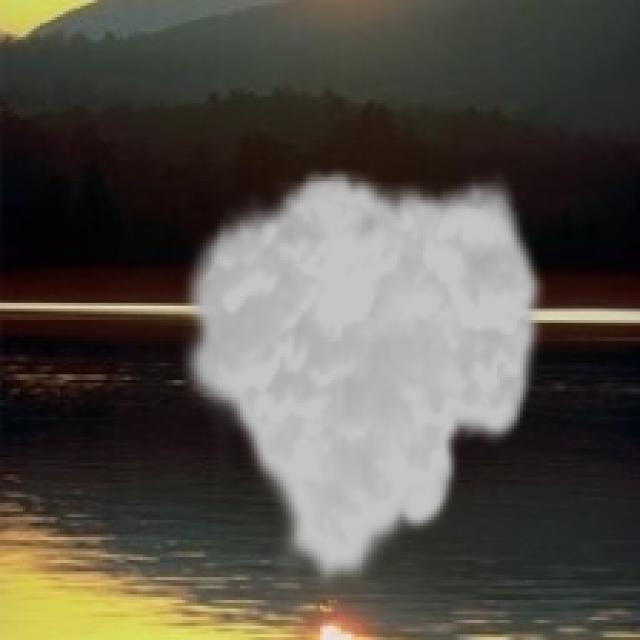smoke: (174, 166, 549, 591)
